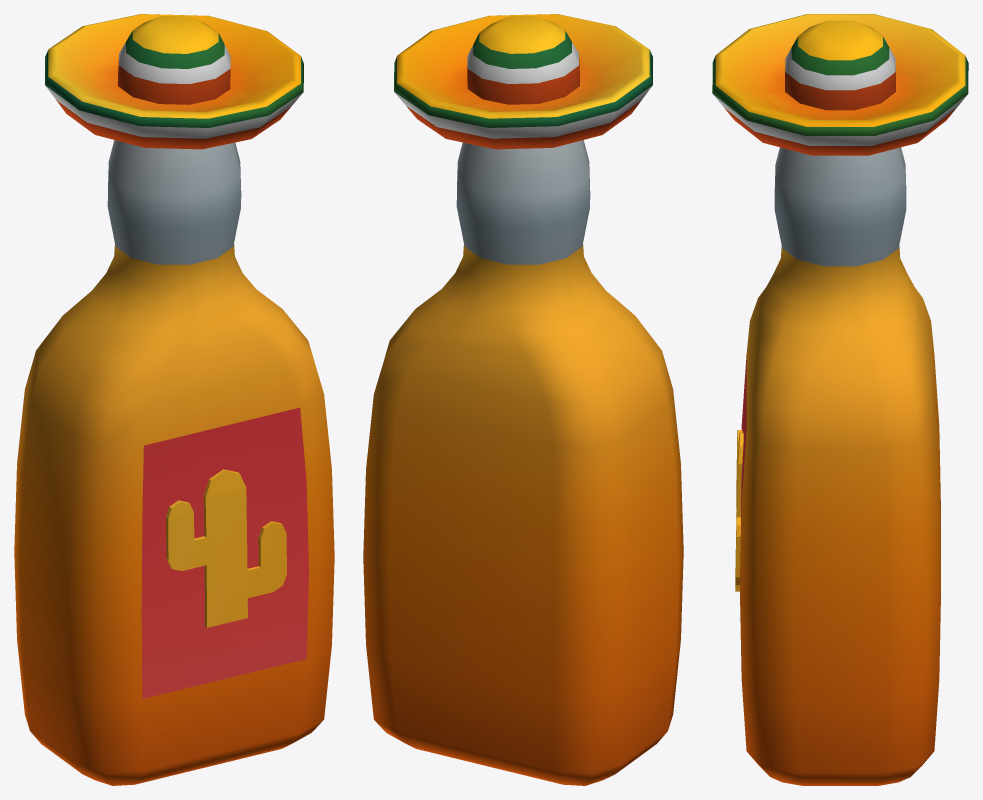
File: bottle_019.fbx
3 renders of one model, left to right at view 1: azimuth 30°, elevation 25°; view 2: azimuth 150°, elevation 25°; view 3: azimuth 270°, elevation 25°, orthographic.
Visible parts, largest first — view 1: bottle_019; view 2: bottle_019; view 3: bottle_019.
Boxes of the visible parts, x1,y1,x2,y2 form: bottle_019: [14, 14, 334, 785]; bottle_019: [363, 14, 683, 785]; bottle_019: [712, 14, 968, 785].
Bounding box in the file's own units: 10.74 × 9.17 × 27.99.
